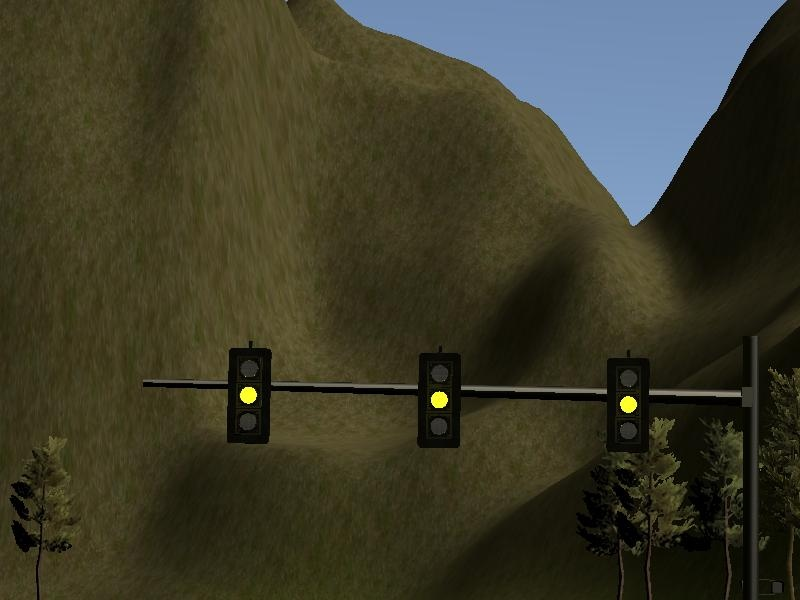yellow: (216, 334, 277, 449), (409, 341, 466, 454), (599, 344, 655, 458)
